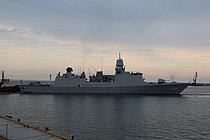MIL_Ship: (19, 57, 190, 96)
